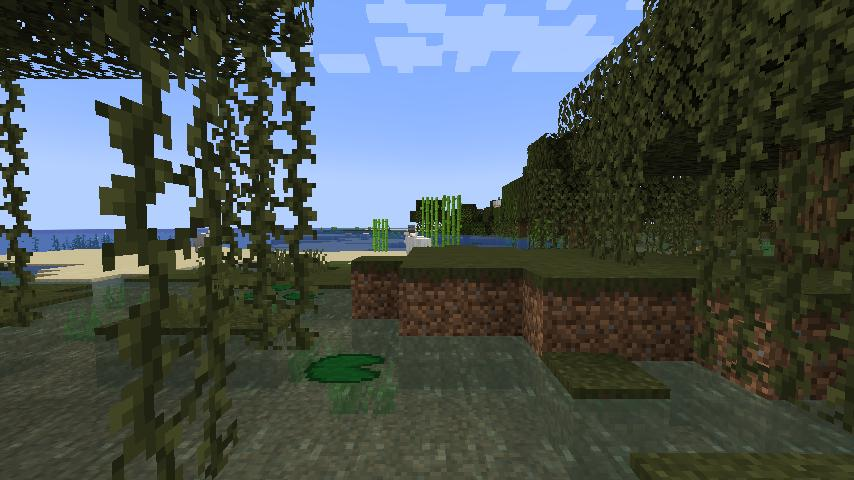goat: (404, 224, 432, 254)
